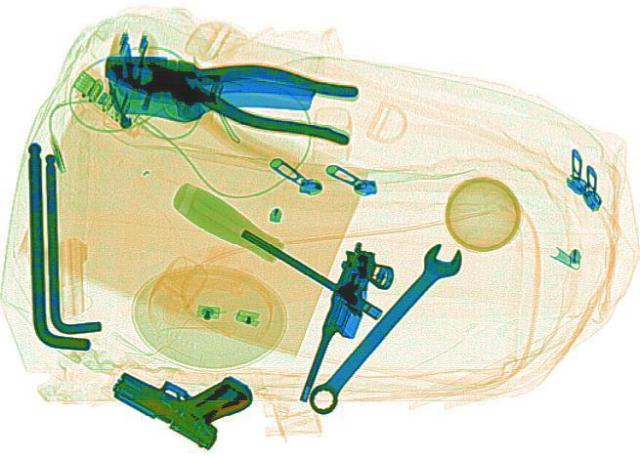Gun: (94, 336, 272, 449), (295, 244, 399, 407)
Pliers: (87, 35, 371, 144)
Wrench: (290, 238, 472, 417)
